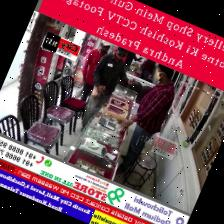person: (115, 64, 173, 174), (80, 47, 131, 130), (79, 41, 110, 101), (124, 52, 141, 71), (139, 59, 154, 80)
